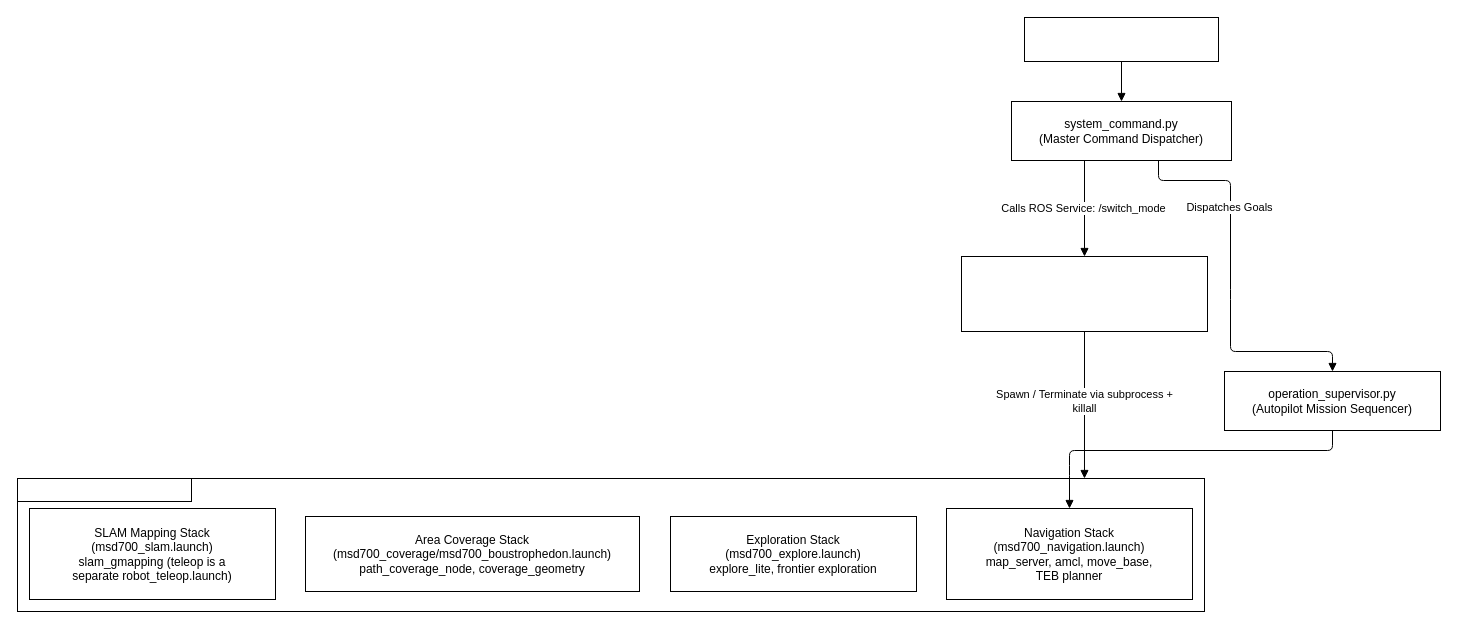
This 1458x629 diagram has some shape labels left out. The centre of each missing label's shape, as x and y in pixels:
"Dynamic Launch Subsystems" goes at point 104,490.
"MQTT /system_command" goes at point 1121,39.
"switch_mode.py (Dynamic Process Lifecycle Manager)" goes at point 1084,294.
